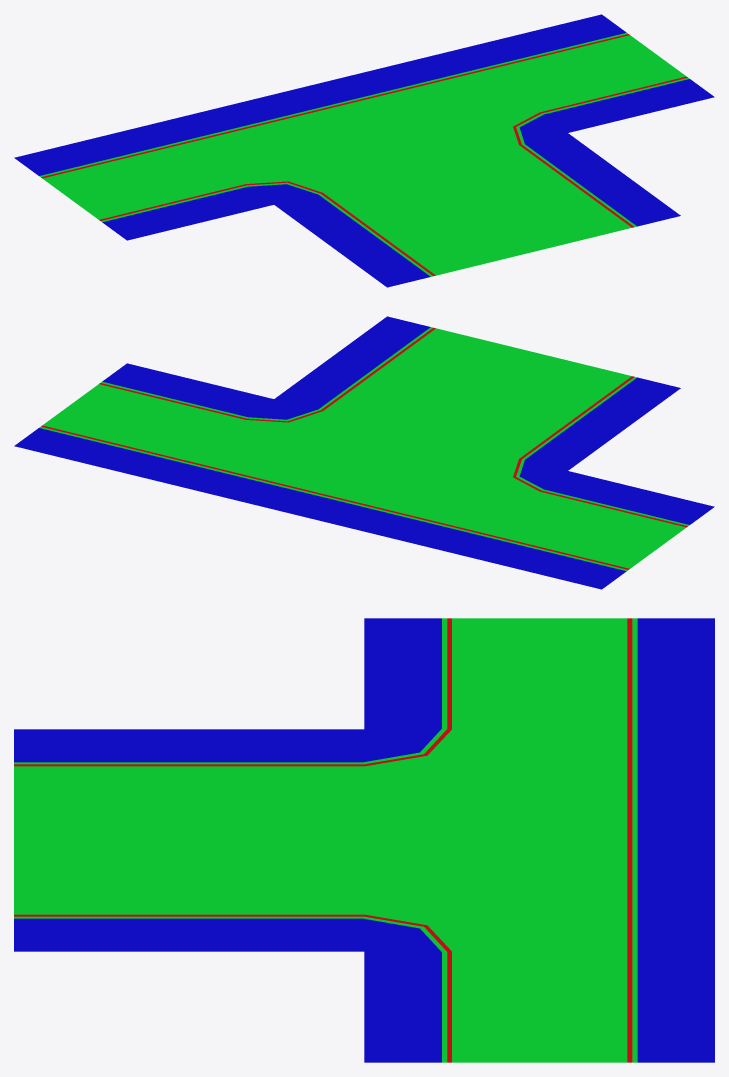
File: thin_3way_1_wide.fbx
3 views of the same model, one above another, from view 1: azimuth 30°, elevation 25°; view 2: azimuth 150°, elevation 25°; view 3: azimuth 270°, elevation 25° (orthographic). The views are drawn at different scales.
Parts seen in each view (by area): view 1: Plane.072; view 2: Plane.072; view 3: Plane.072.
Part boxes in pixels (x1,y1,x2,y2): Plane.072: (14,14,714,287); Plane.072: (14,316,714,589); Plane.072: (14,618,714,1062).
Size of the model in its own units: 1200 by 0.00013 by 800.
